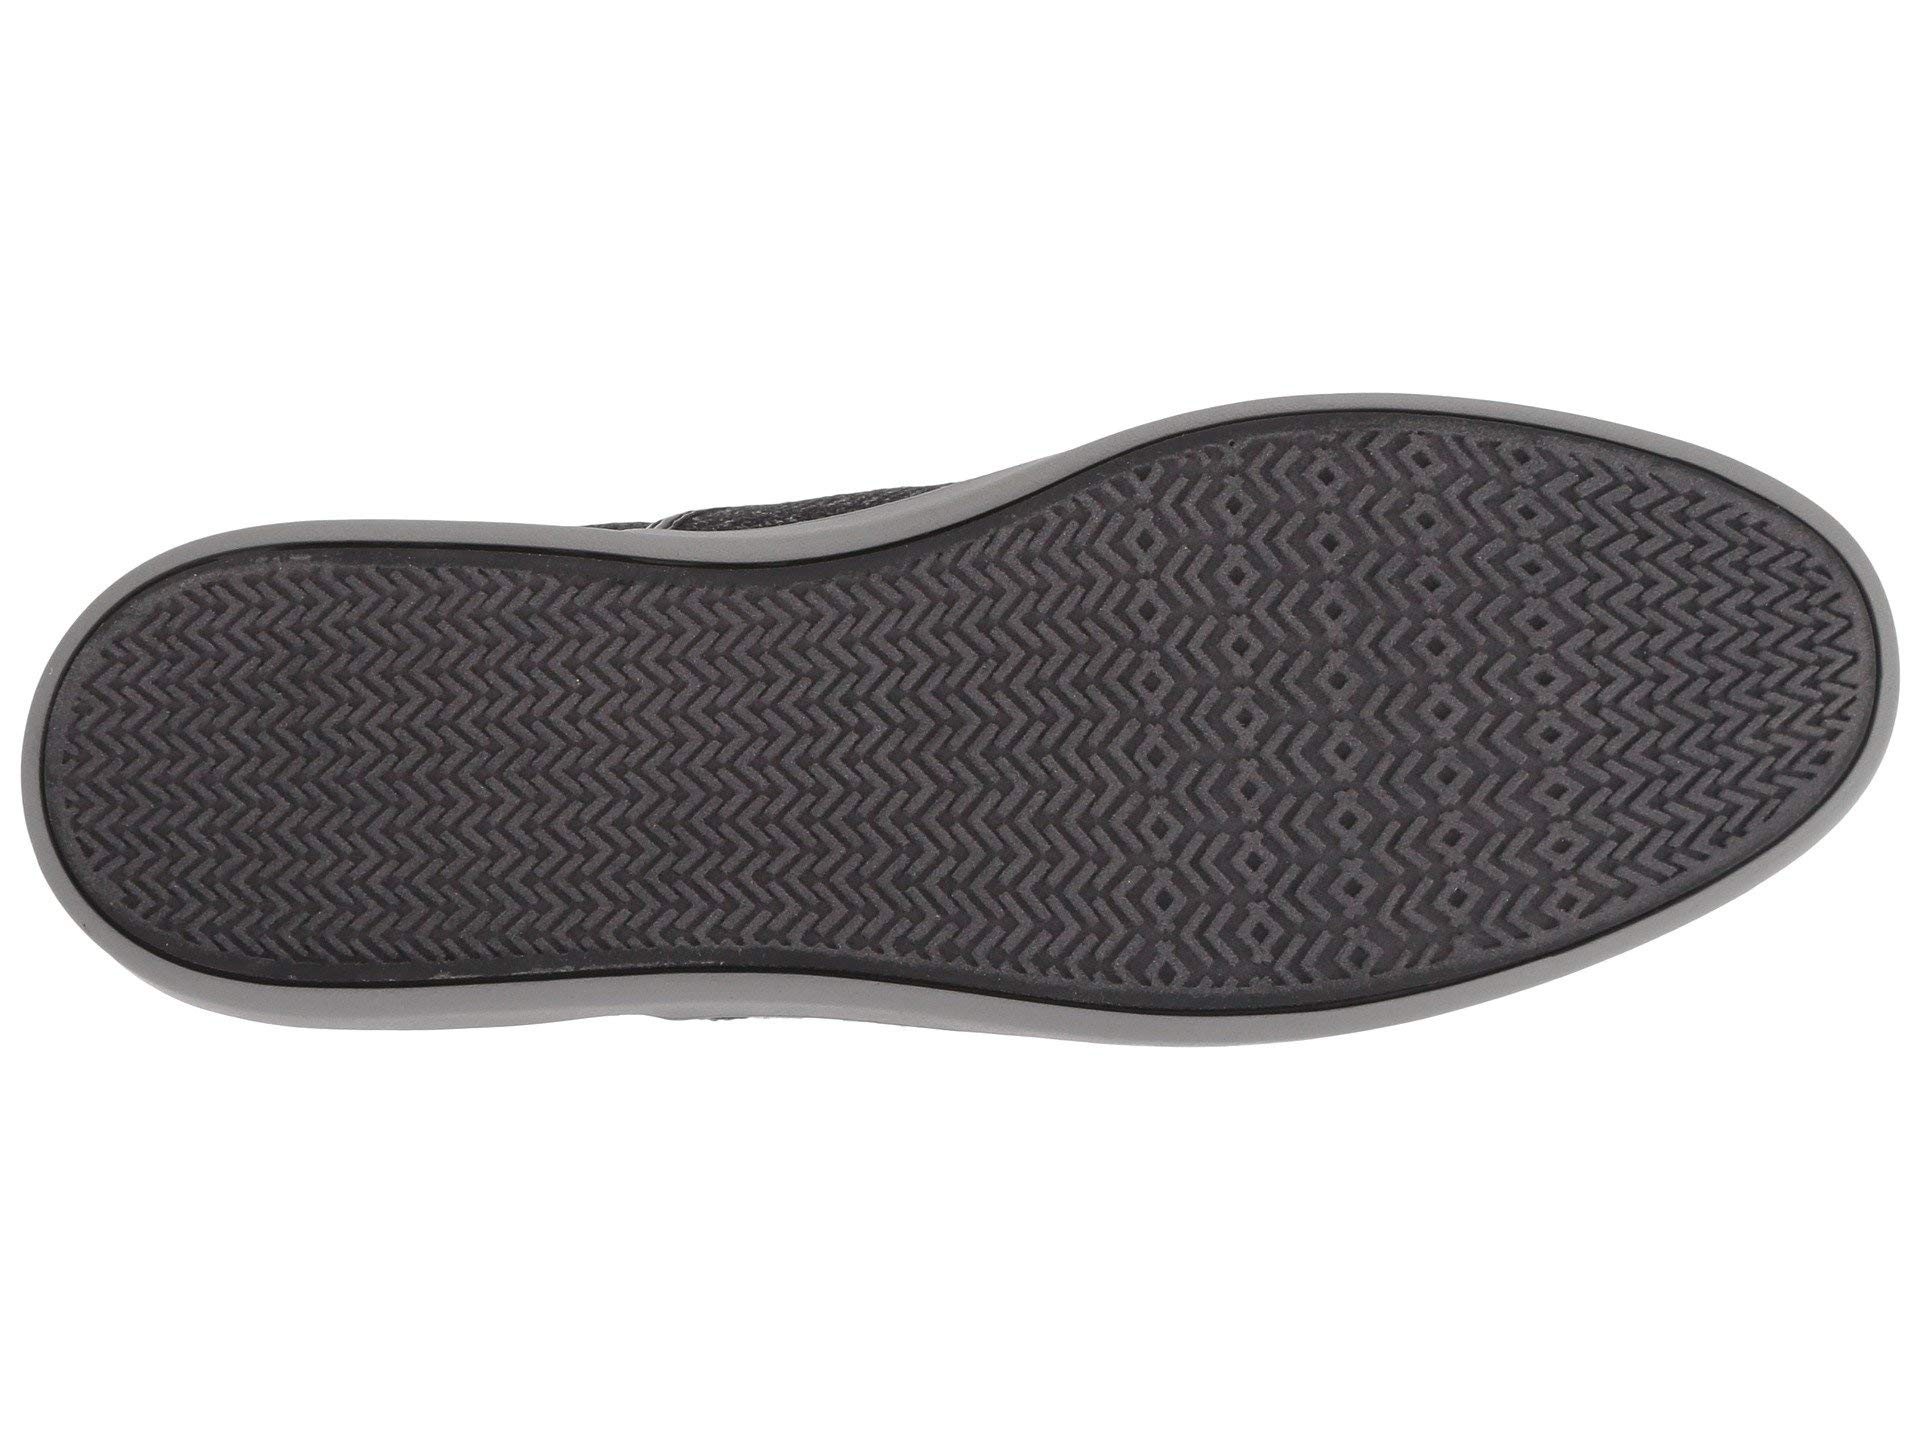chevron: (1110, 516, 1534, 898), (576, 601, 931, 961)
quad: (1110, 516, 1534, 898)
